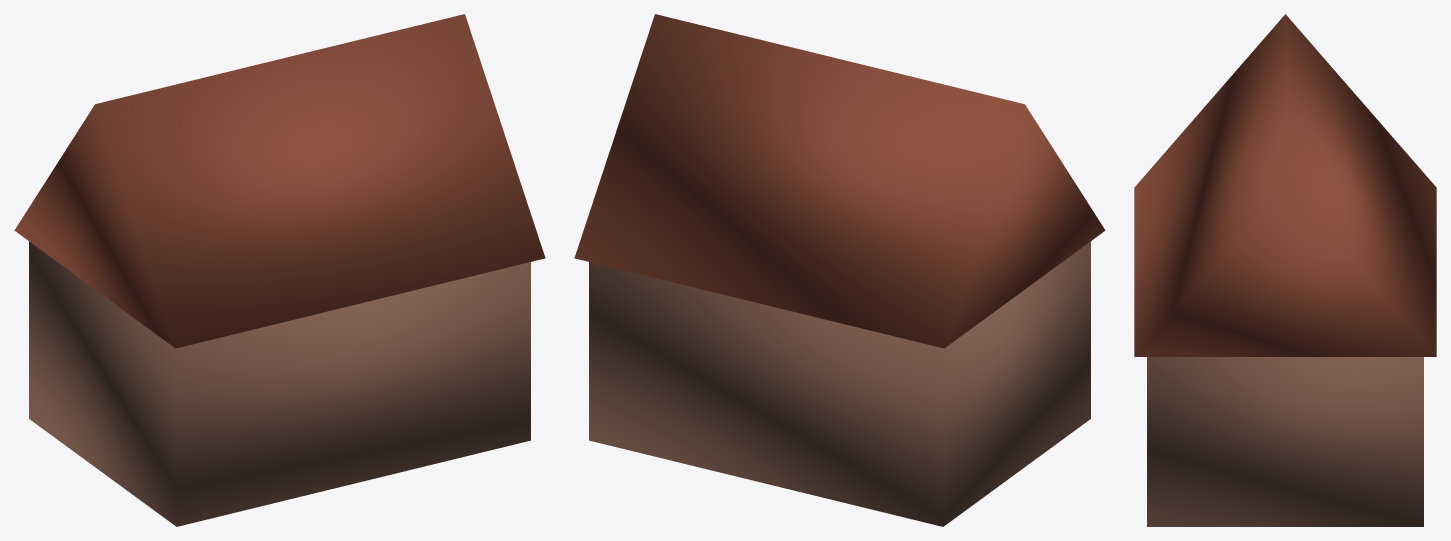
File: tpl_hz_ouderkerk_houses.glb
3 renders of one model, left to right at view 1: azimuth 30°, elevation 25°; view 2: azimuth 150°, elevation 25°; view 3: azimuth 270°, elevation 25°, orthographic. The views are drawn at different scales.
Visible parts, largest first — view 1: tpl_hz_ouderkerk_houses; view 2: tpl_hz_ouderkerk_houses; view 3: tpl_hz_ouderkerk_houses.
Boxes of the visible parts, bbox=[...] form: tpl_hz_ouderkerk_houses: bbox=[14, 14, 545, 526]; tpl_hz_ouderkerk_houses: bbox=[574, 14, 1105, 526]; tpl_hz_ouderkerk_houses: bbox=[1134, 14, 1436, 526].
Size of the model in its own units: 9.4 by 9 by 7.1.
